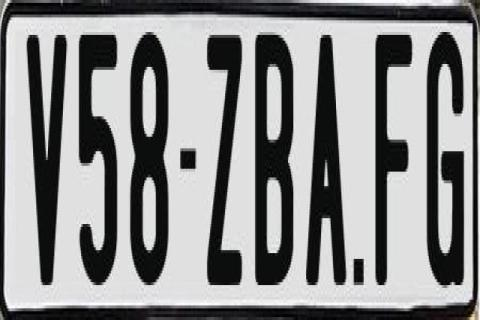0: (130, 27, 170, 297), (77, 32, 118, 288)
A: (305, 26, 346, 291)
B: (255, 29, 300, 297)
F: (373, 29, 413, 282)
G: (424, 24, 460, 282)
V: (24, 35, 70, 303)
Z: (207, 26, 242, 291)
